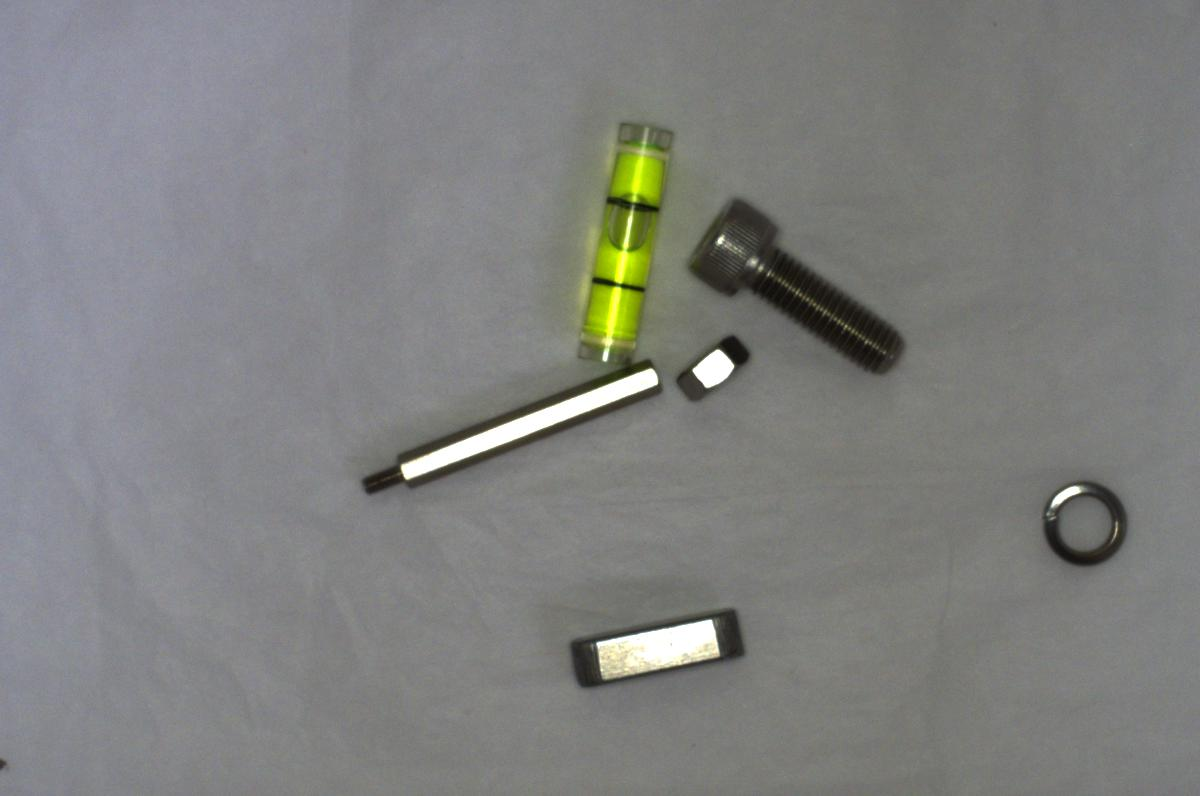Hexagon nut: (674, 330, 753, 403)
Hexagon screw: (682, 190, 906, 373)
Hexagonal steel column: (350, 360, 671, 499)
Horizontal bubble: (577, 112, 675, 368)
Keybar: (562, 601, 745, 701)
Spring washer: (1033, 469, 1131, 570)
